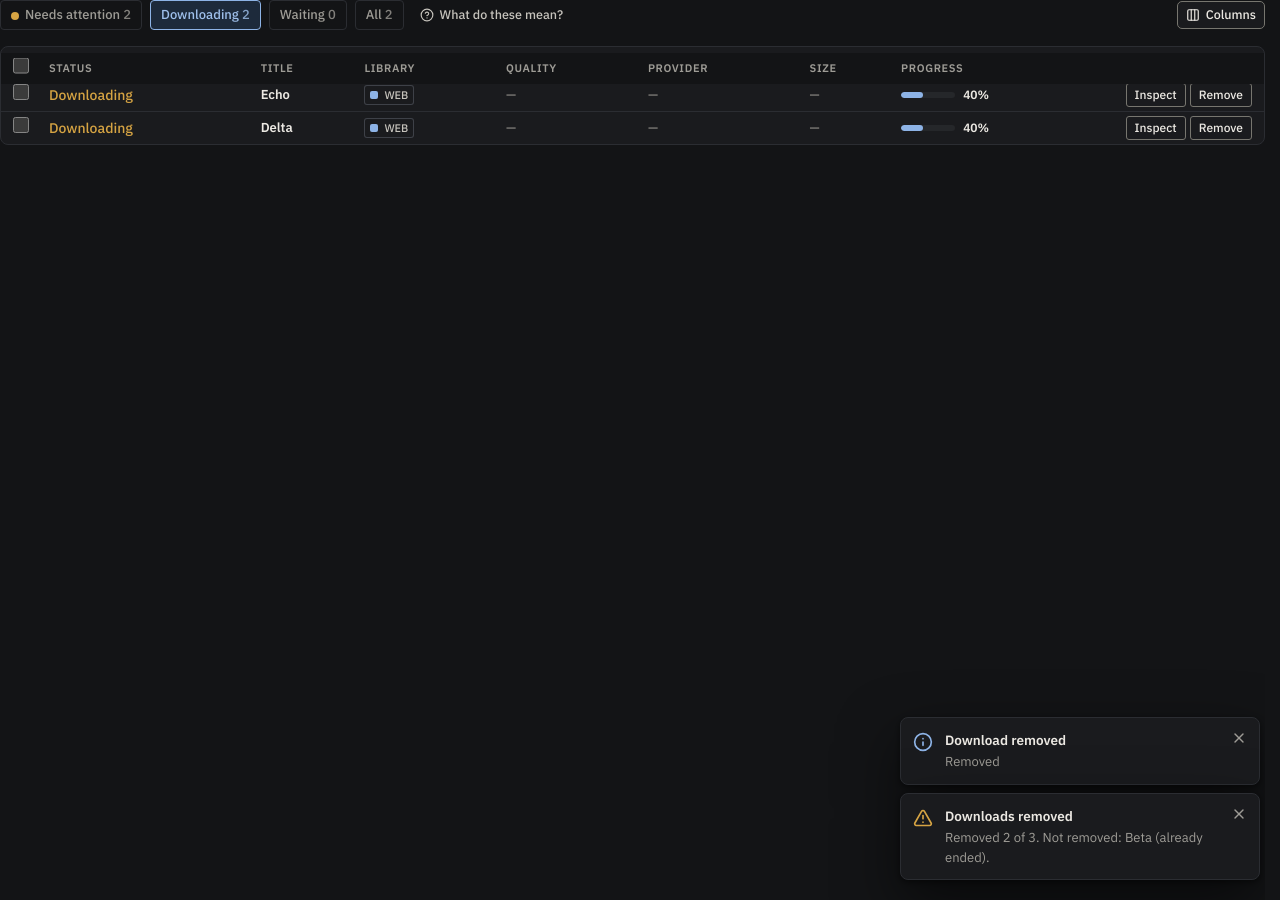
Test case: acts only on the chosen rows still shown when Remove selected is confirmed
Click the checkbox named "Select all 2 shown" at (21, 66), box [13,58,29,74]
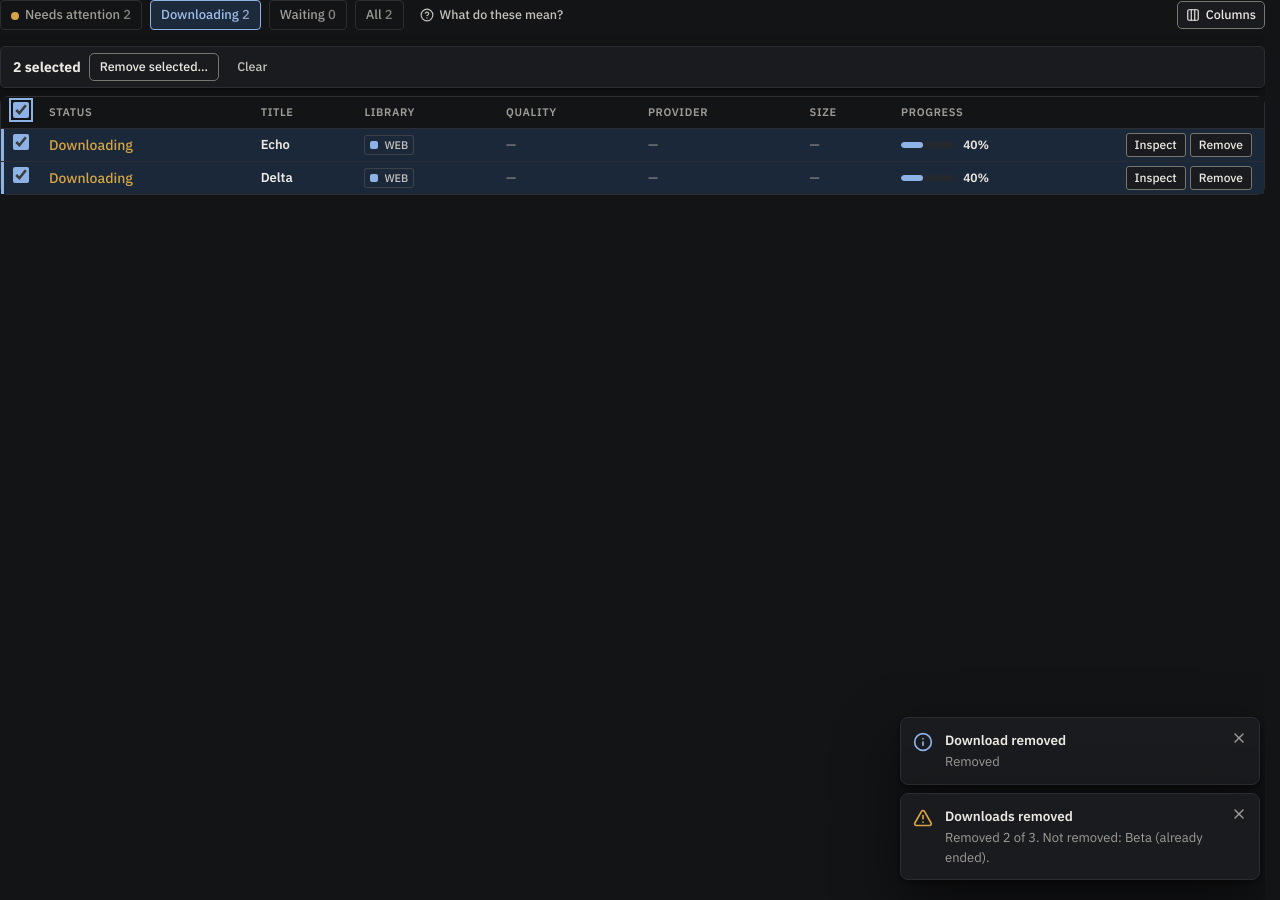
Click the button "Remove selected…" at (154, 66), box [89,52,219,80]
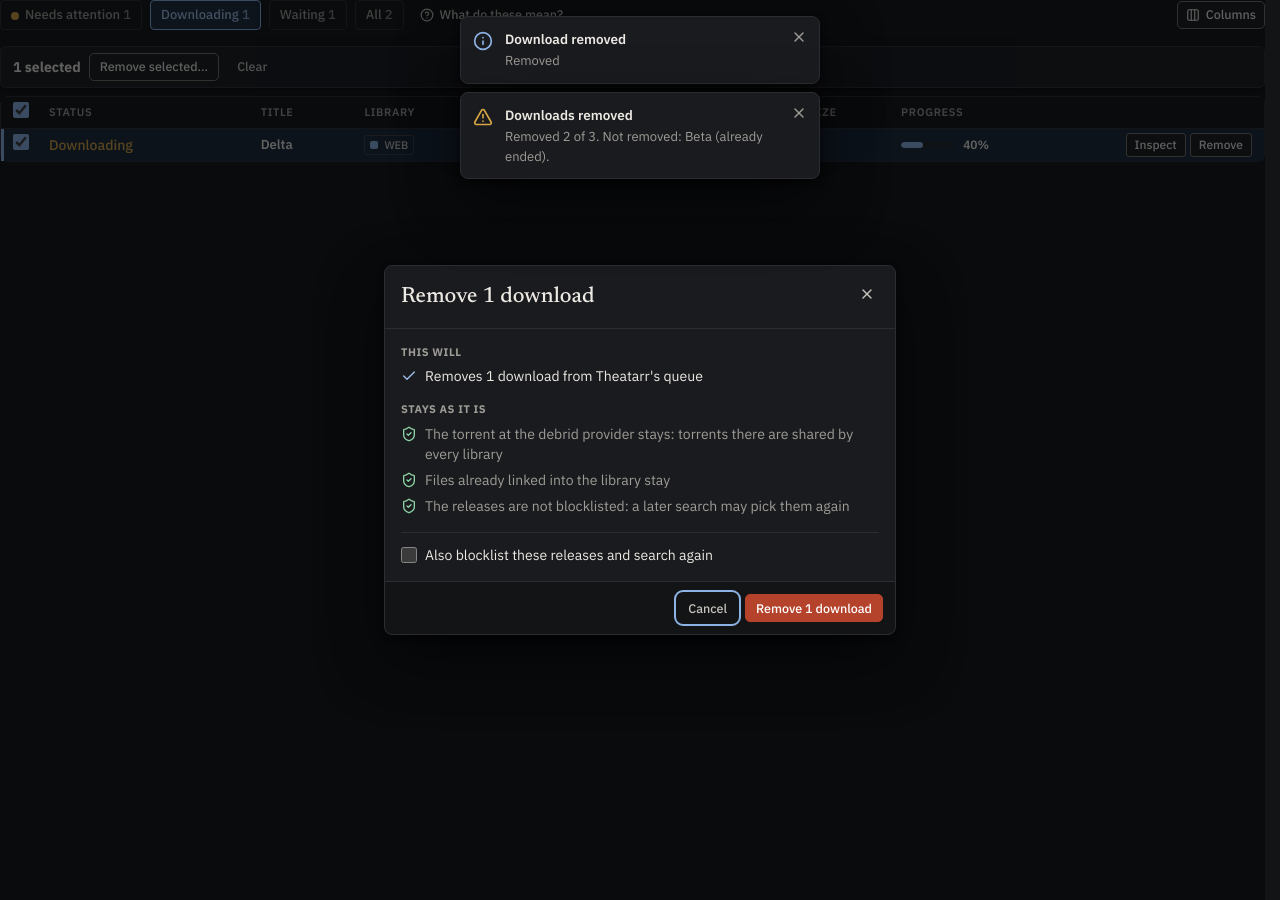
Now the button named "Remove 2 downloads" is shown
Click the button "Remove 1 download" at (814, 608), box [745,594,883,622]
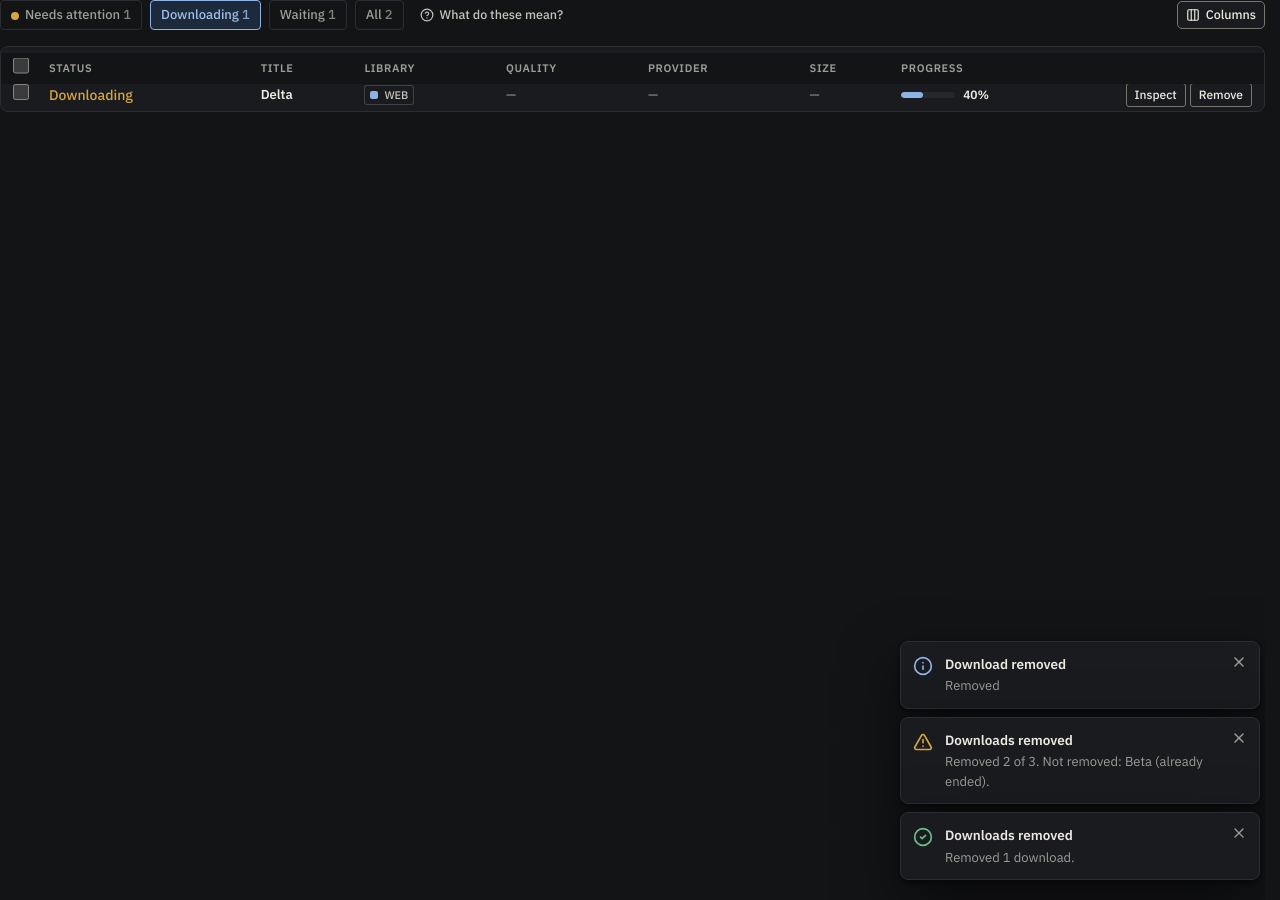
Now the text "Removed 1 download." is shown, box [945,848,1075,866]
